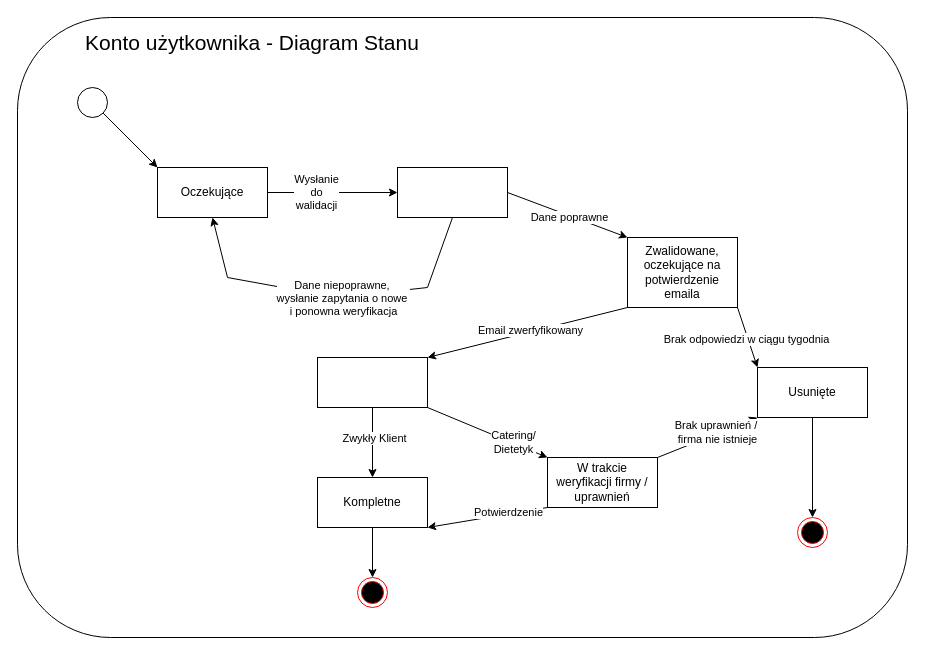
This 925x655 diagram has some shape labels left out. The shapes that lost their labels are listed below. From the top down, each one's centre as x and y in pixels, then its label:
At point 452,192: "W trakcie walidacji".
At point 372,382: "W pełni potwierdzone dane".
